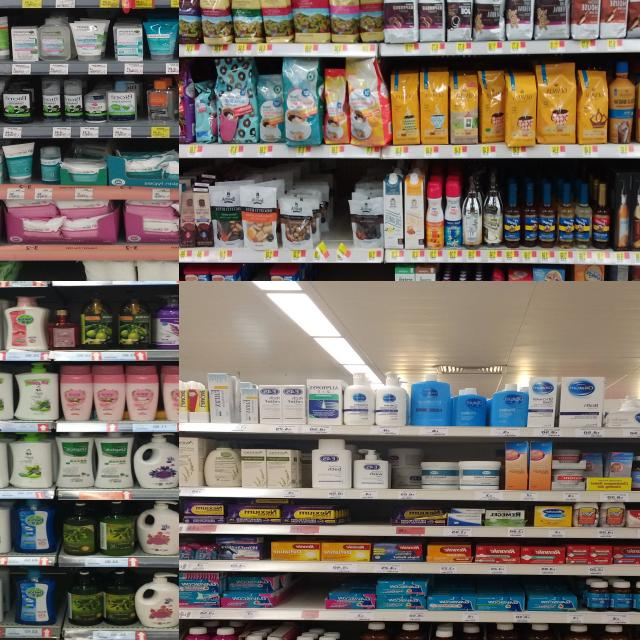100- O.O.S: (332, 168, 348, 262), (298, 576, 324, 621), (20, 262, 80, 281), (363, 501, 388, 535), (352, 264, 392, 281), (310, 264, 349, 281), (341, 622, 357, 640)
